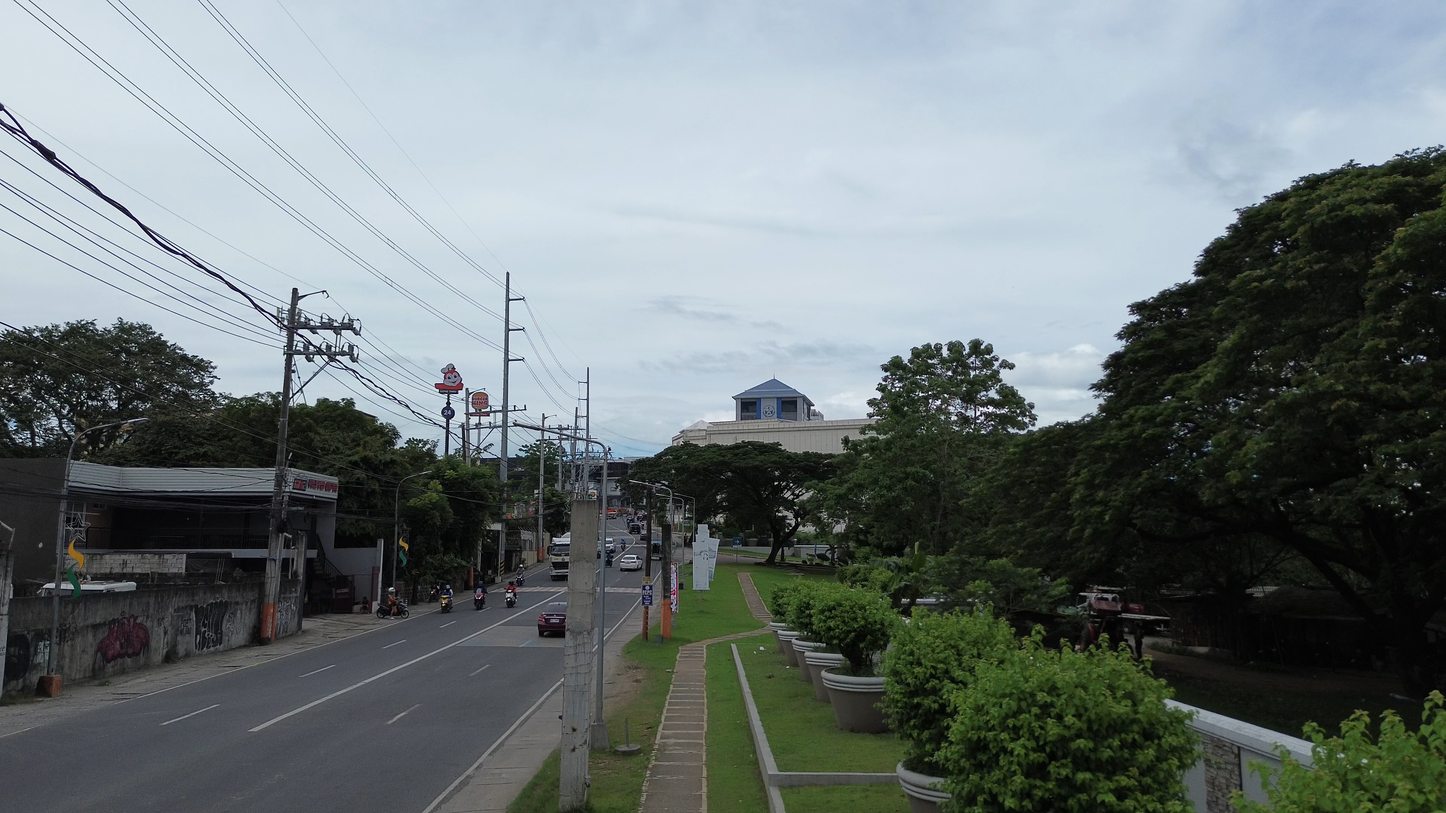car: (537, 601, 567, 636), (619, 555, 643, 571), (604, 538, 617, 553)
motorcycle: (439, 594, 452, 613), (473, 590, 485, 610), (505, 590, 516, 608)
vehicle: (548, 536, 570, 580), (505, 587, 517, 608), (439, 594, 452, 613), (474, 588, 485, 610), (650, 540, 662, 560), (396, 601, 409, 618), (605, 537, 616, 553), (628, 523, 642, 535), (604, 552, 614, 567)
